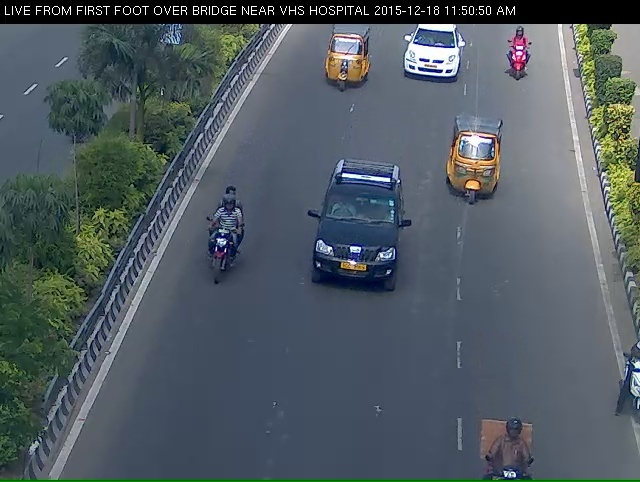Auto: (445, 125, 509, 221), (315, 31, 370, 100)
Car: (304, 171, 401, 318), (400, 28, 465, 94)
Person: (186, 218, 234, 312), (506, 38, 531, 92)
